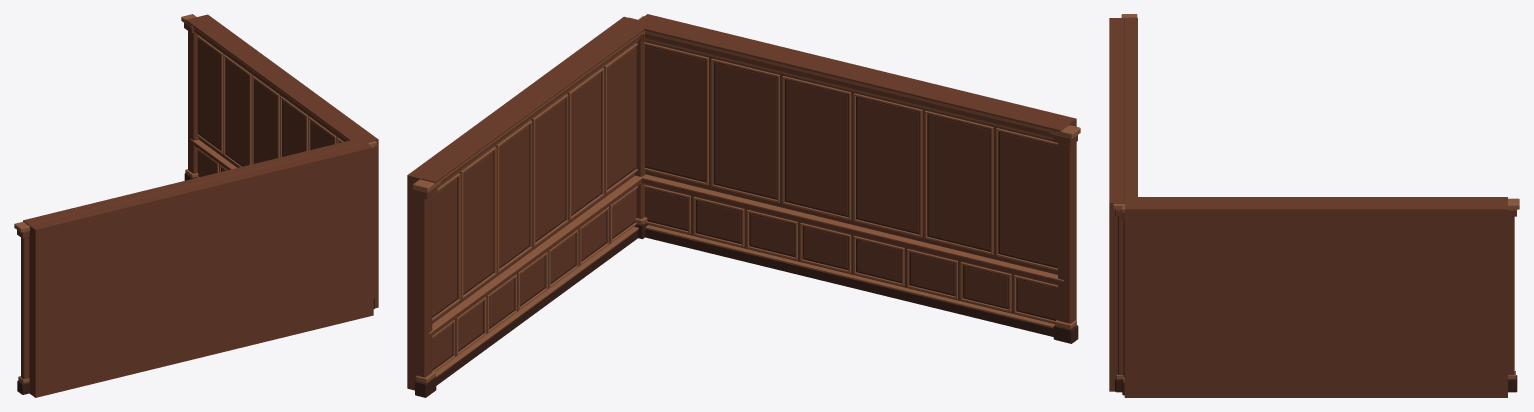
The model's file is main1f_f05_complete_shell.glb.
3 renders of one model, left to right at view 1: azimuth 30°, elevation 25°; view 2: azimuth 150°, elevation 25°; view 3: azimuth 270°, elevation 25°, orthographic. The views are drawn at different scales.
Visible parts, largest first — view 1: main1f_f05_front_Wall_Solid_00, main1f_f05_right_Wall_Solid_00, main1f_f05_right_Wall_UpperPanel_00_0_1_Field, main1f_f05_right_Wall_UpperPanel_00_0_0_Field, main1f_f05_front_Wall_Cornice_00_3_0, main1f_f05_right_Wall_Cornice_00_3_0, main1f_f05_right_Wall_UpperPanel_00_0_2_Field, Pilaster_Shaft_004, Pilaster_Shaft_009, main1f_f05_right_Wall_UpperPanel_00_0_3_Field, main1f_f05_right_Wall_Cornice_00_1_0, main1f_f05_right_Wall_UpperPanel_00_0_4_Field (+2 smaller); view 2: main1f_f05_front_Wall_Solid_00, main1f_f05_front_Wall_UpperPanel_00_0_4_Field, main1f_f05_front_Wall_UpperPanel_00_0_2_Field, main1f_f05_front_Wall_UpperPanel_00_0_3_Field, main1f_f05_front_Wall_UpperPanel_00_0_1_Field, main1f_f05_front_Wall_UpperPanel_00_0_0_Field, main1f_f05_front_Wall_UpperPanel_00_0_5_Field, main1f_f05_right_Wall_Solid_00, main1f_f05_front_Wall_Cornice_00_3_0, main1f_f05_front_Wall_Skirting_00_0, main1f_f05_right_Wall_UpperPanel_00_0_2_Field, main1f_f05_right_Wall_UpperPanel_00_0_1_Field (+40 smaller); view 3: main1f_f05_right_Wall_Solid_00, main1f_f05_front_Wall_Solid_00, main1f_f05_front_Wall_Cornice_00_3_0, main1f_f05_right_Wall_Cornice_00_3_0, Pilaster_Shaft_004, Pilaster_Shaft_005.
Boxes of the visible parts, x1,y1,x2,y2 form: main1f_f05_front_Wall_Solid_00: (28, 142, 373, 397); main1f_f05_right_Wall_Solid_00: (196, 14, 378, 308); main1f_f05_right_Wall_UpperPanel_00_0_1_Field: (225, 59, 249, 166); main1f_f05_right_Wall_UpperPanel_00_0_0_Field: (197, 38, 220, 149); main1f_f05_front_Wall_Cornice_00_3_0: (23, 138, 366, 224); main1f_f05_right_Wall_Cornice_00_3_0: (186, 17, 361, 140); main1f_f05_right_Wall_UpperPanel_00_0_2_Field: (254, 79, 277, 163); Pilaster_Shaft_004: (188, 31, 198, 173); Pilaster_Shaft_009: (21, 237, 29, 379); main1f_f05_right_Wall_UpperPanel_00_0_3_Field: (282, 100, 305, 156); main1f_f05_right_Wall_Cornice_00_1_0: (194, 29, 346, 141); main1f_f05_right_Wall_UpperPanel_00_0_4_Field: (310, 121, 334, 149); main1f_f05_front_Wall_Solid_00: (640, 14, 1076, 323); main1f_f05_front_Wall_UpperPanel_00_0_4_Field: (928, 115, 990, 250); main1f_f05_front_Wall_UpperPanel_00_0_2_Field: (786, 80, 847, 215); main1f_f05_front_Wall_UpperPanel_00_0_3_Field: (857, 97, 918, 232); main1f_f05_front_Wall_UpperPanel_00_0_1_Field: (715, 63, 776, 198); main1f_f05_front_Wall_UpperPanel_00_0_0_Field: (645, 46, 705, 180); main1f_f05_front_Wall_UpperPanel_00_0_5_Field: (1000, 132, 1057, 266); main1f_f05_right_Wall_Solid_00: (407, 16, 638, 390); main1f_f05_front_Wall_Cornice_00_3_0: (632, 20, 1067, 131); main1f_f05_front_Wall_Skirting_00_0: (645, 229, 1053, 336); main1f_f05_right_Wall_UpperPanel_00_0_2_Field: (499, 125, 529, 267); main1f_f05_right_Wall_UpperPanel_00_0_1_Field: (463, 152, 493, 293); main1f_f05_right_Wall_Solid_00: (1124, 203, 1507, 397); main1f_f05_front_Wall_Solid_00: (1109, 18, 1124, 391); main1f_f05_front_Wall_Cornice_00_3_0: (1124, 17, 1137, 202); main1f_f05_right_Wall_Cornice_00_3_0: (1125, 197, 1507, 202); Pilaster_Shaft_004: (1508, 216, 1514, 375); Pilaster_Shaft_005: (1118, 216, 1123, 375).
Size of the model in its own units: 8.5 by 3.81 by 7.5.
